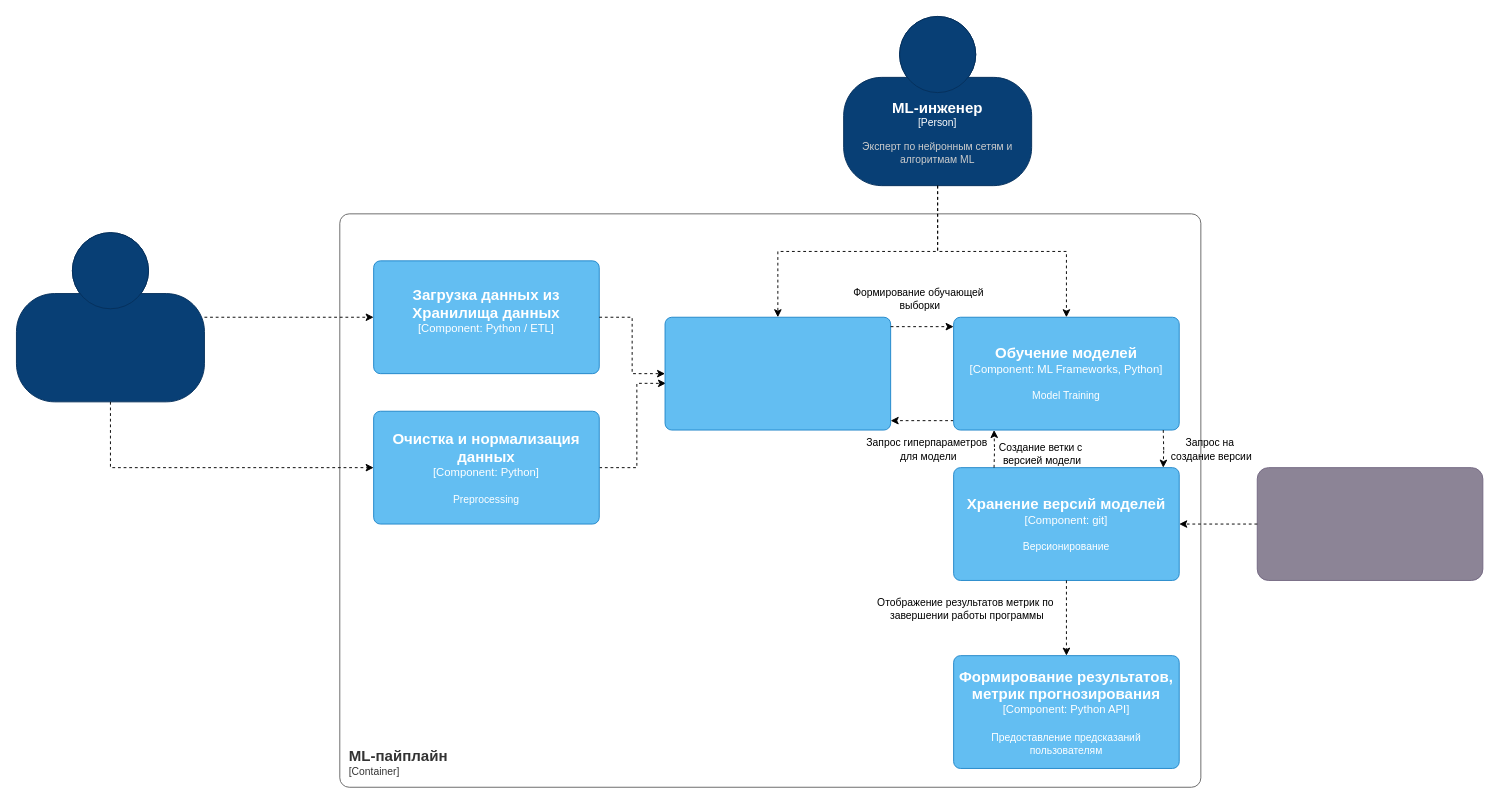
Image size: 1499x804. Some labels were removed from this diagram. The shapes that lost their labels are listed below. From the top down, each one's centre as x and y in pixels, then its label:
point 110,317: Аналитик данных [Person] Работает с данными
point 777,373: Формирование признаков [Component: Python] Feature Engineering
point 1369,523: Git [Software System] Система контроля версий
